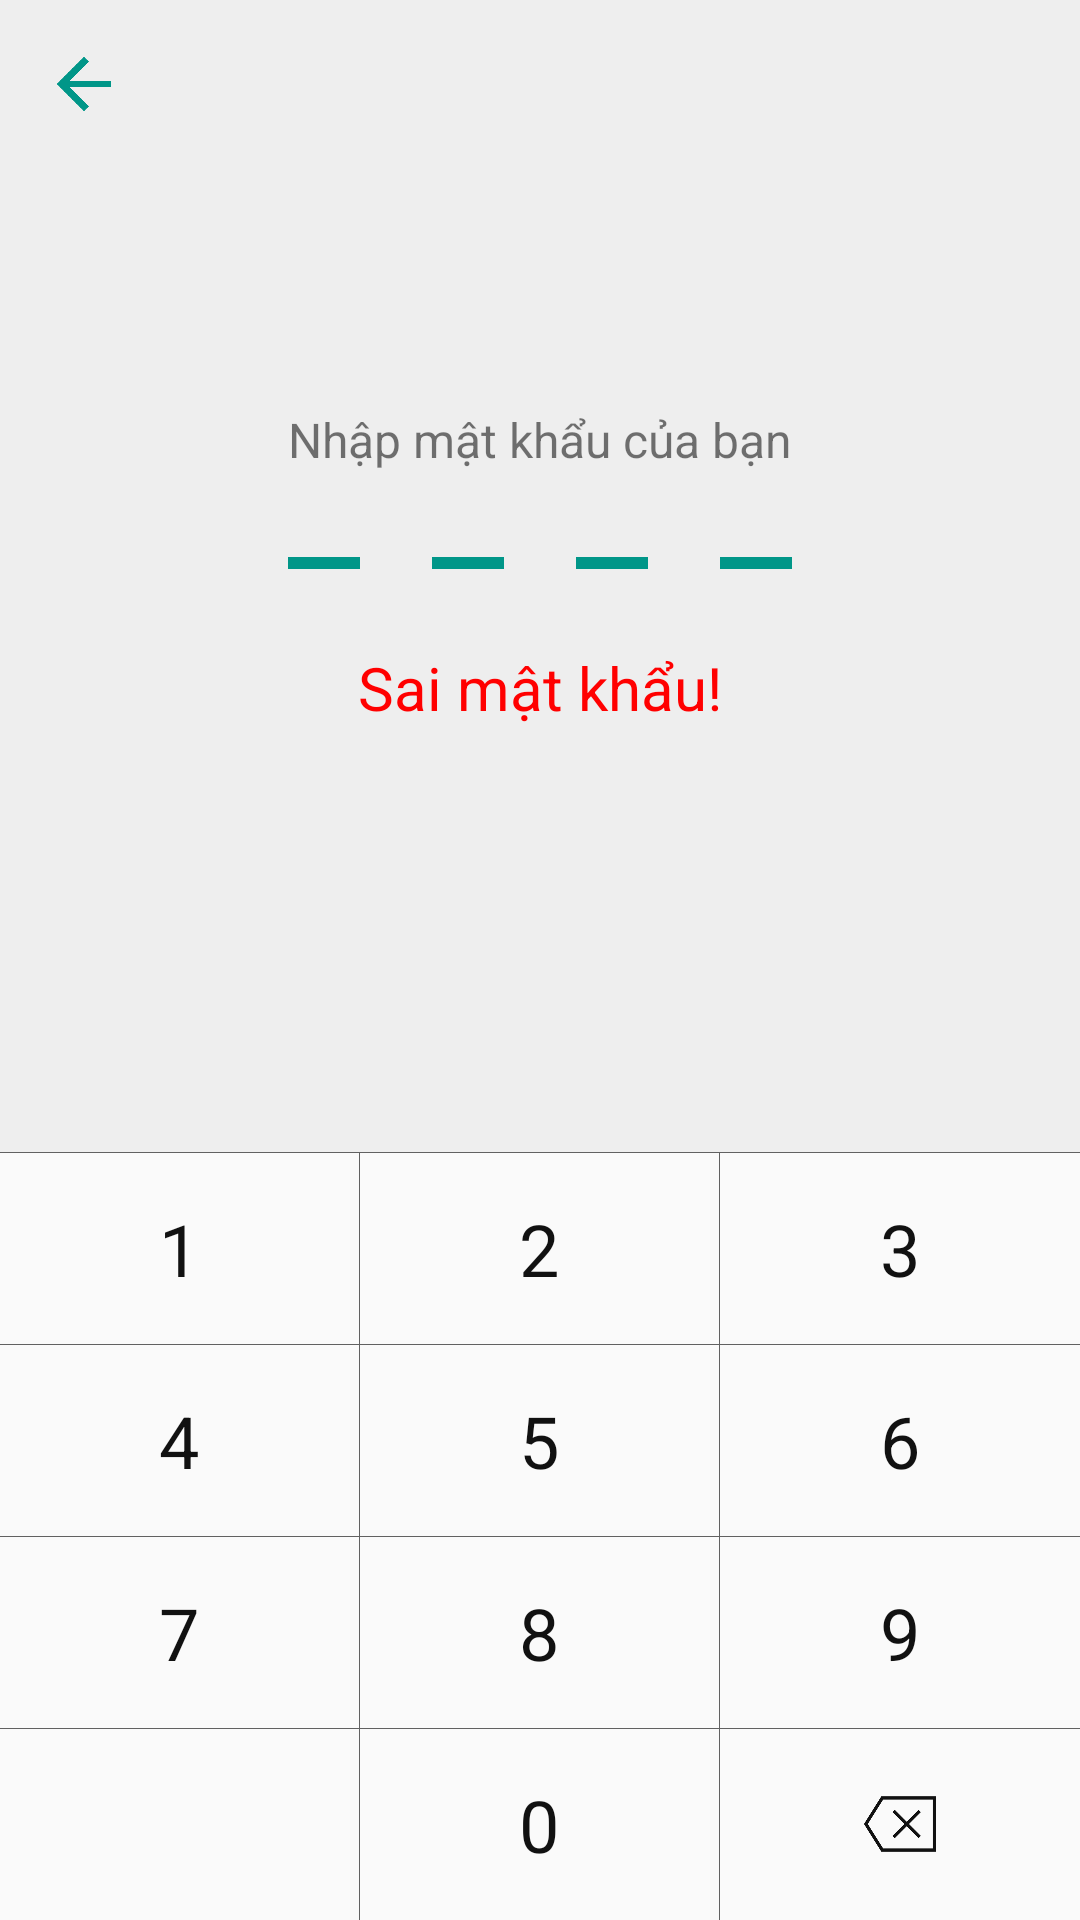

Screen size 1080 × 1920. Icon name, then its box in pixels as (x1, y1, x2, y2):
back: (57, 57, 111, 111)
backspace: (864, 1796, 936, 1852)
